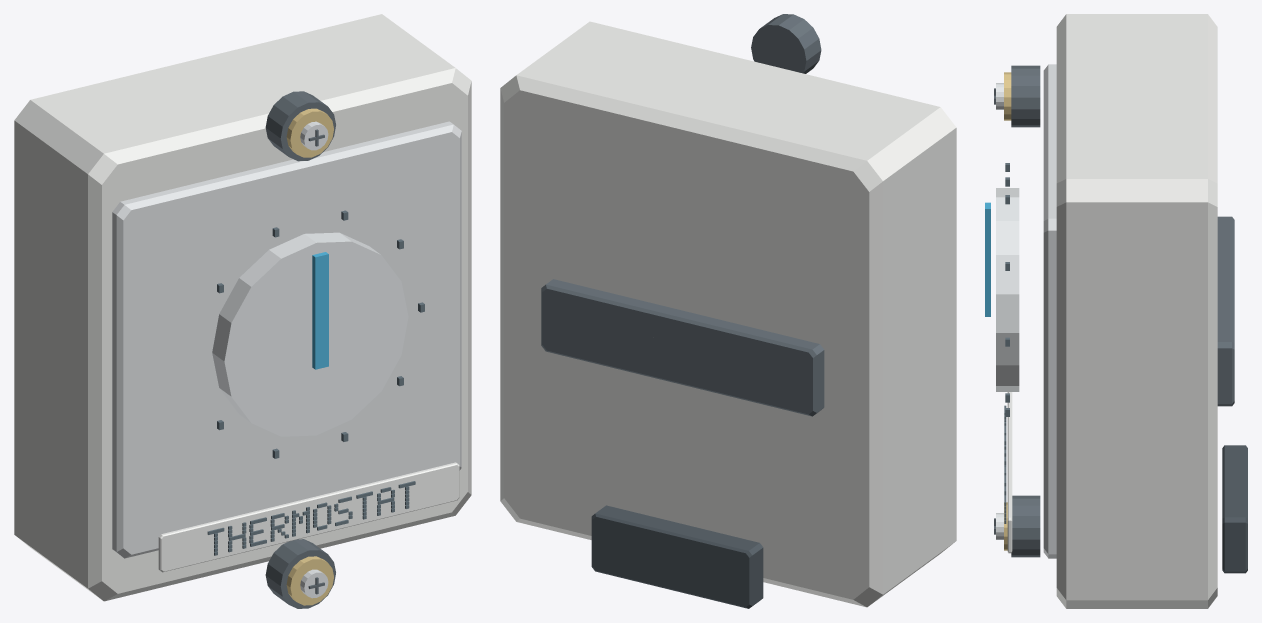
File: thermostat.glb
3 renders of one model, left to right at view 1: azimuth 30°, elevation 25°; view 2: azimuth 150°, elevation 25°; view 3: azimuth 270°, elevation 25°, orthographic. The views are drawn at different scales.
Parts seen in each view (by area): view 1: thermostat-preview; view 2: thermostat-preview; view 3: thermostat-preview.
Part boxes in pixels (<box>): thermostat-preview: <box>14,14,471,608</box>; thermostat-preview: <box>500,14,956,608</box>; thermostat-preview: <box>985,14,1247,608</box>.
Bounding box in the file's own units: 2.17 × 2.73 × 1.34.
